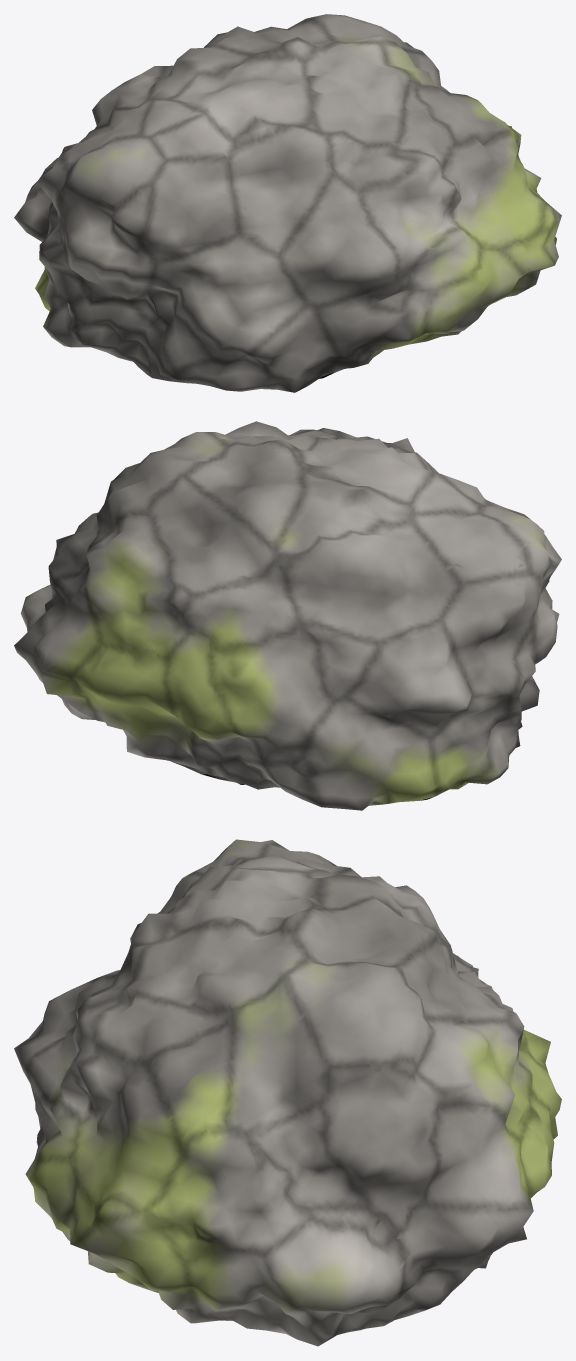
File: textured-rock.fbx
3 views of the same model, one above another, from view 1: azimuth 30°, elevation 25°; view 2: azimuth 150°, elevation 25°; view 3: azimuth 270°, elevation 25° (orthographic). The views are drawn at different scales.
Visible parts, largest first — view 1: Rock; view 2: Rock; view 3: Rock.
Part boxes in pixels (x1=…): Rock: x1=14, y1=14, x2=561, y2=392; Rock: x1=14, y1=421, x2=561, y2=810; Rock: x1=14, y1=839, x2=561, y2=1346.
Size of the model in its own units: 0.8954 by 0.483 by 0.7379.
Materials: 1 (1 with a texture image).
